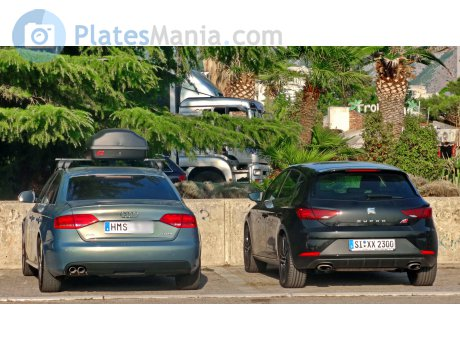License Plates: (352, 238, 398, 251), (107, 222, 149, 232)
